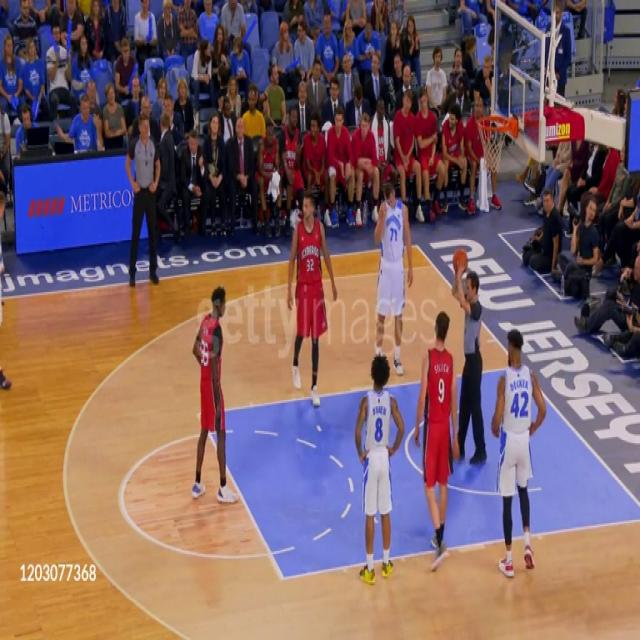ball: (453, 249, 468, 275)
